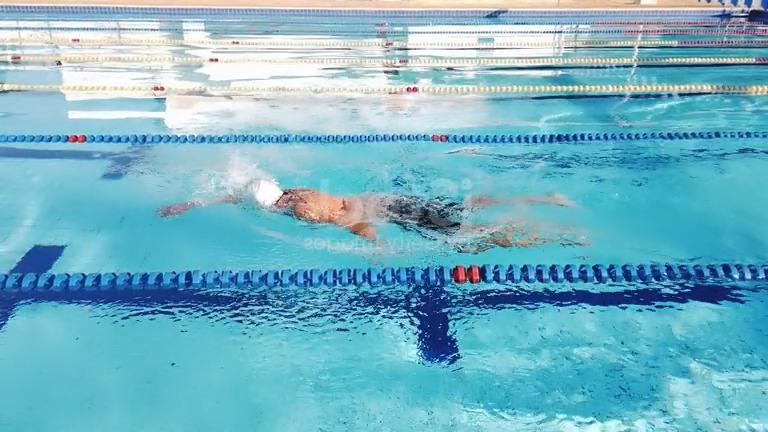Swimming: (154, 171, 593, 258)
